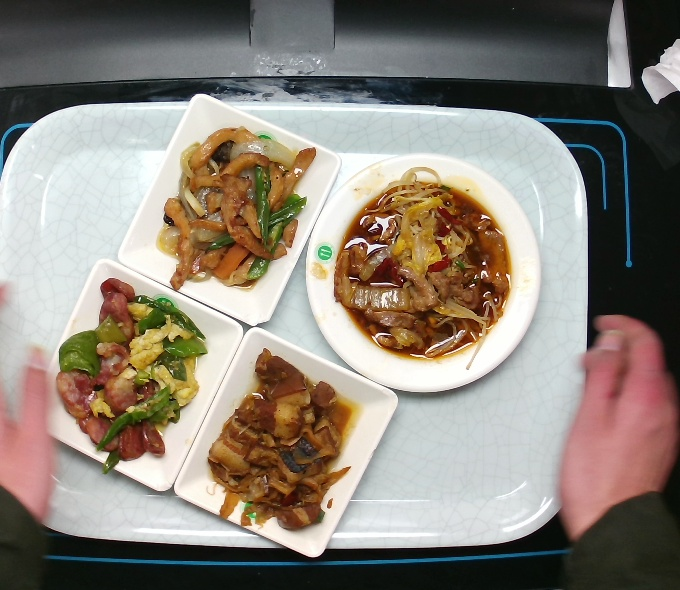wcq-HongShaoRou: (205, 348, 356, 534)
wcq-QingJiaoJiDanChaoDaChang: (52, 276, 208, 471)
wcq-QingJiaoRouSi: (151, 126, 318, 295)
wcq-ShuiZhuRouPian: (332, 180, 513, 360)
